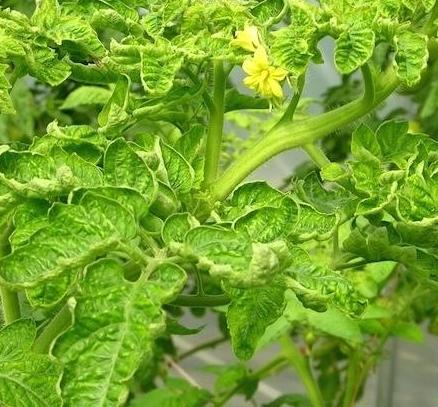Tomato leaf yellow virus: (58, 254, 176, 407), (159, 180, 328, 285), (0, 134, 158, 228), (0, 195, 128, 302), (108, 28, 255, 118), (207, 267, 294, 367), (18, 5, 110, 69), (266, 0, 341, 78), (140, 141, 204, 196), (387, 23, 435, 96), (391, 157, 438, 229), (326, 25, 380, 86)
